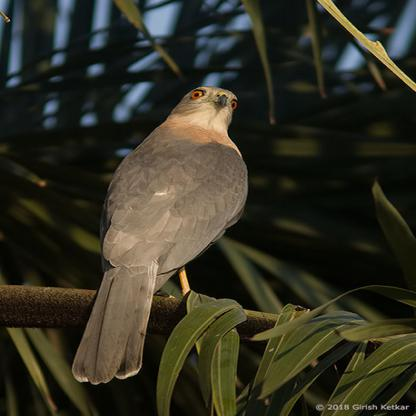Burung: (71, 86, 248, 383)
